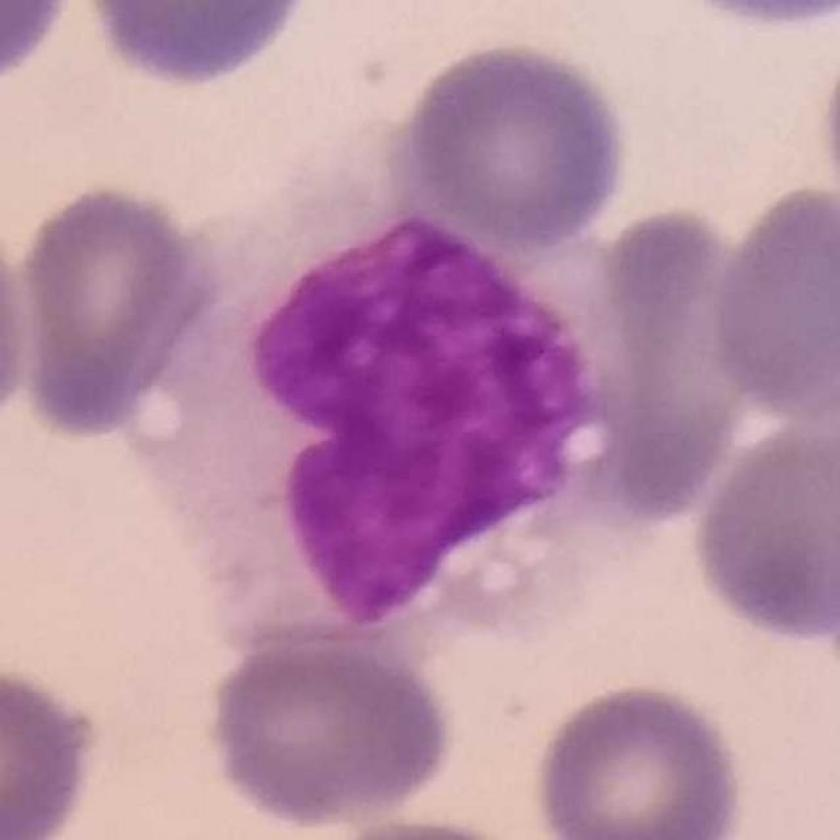monocyte: (128, 126, 651, 663)
